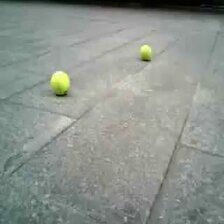tennis: (50, 73, 69, 93), (140, 45, 152, 59)
